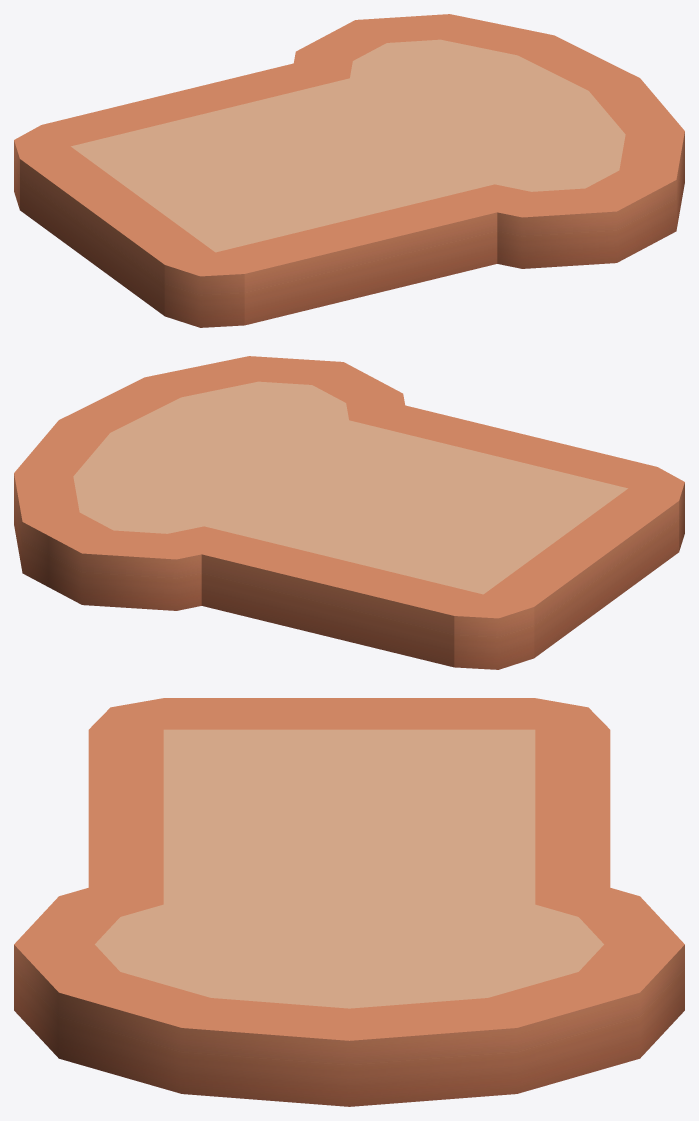
The model's file is bread.glb.
3 renders of one model, top to bottom at view 1: azimuth 30°, elevation 25°; view 2: azimuth 150°, elevation 25°; view 3: azimuth 270°, elevation 25°, orthographic. The views are drawn at different scales.
Parts seen in each view (by area): view 1: bread; view 2: bread; view 3: bread.
Part boxes in pixels (box(x1,y1,x2,y2)): bread: box(14, 14, 684, 327); bread: box(14, 356, 684, 669); bread: box(14, 698, 684, 1106).
Bounding box in the file's own units: 0.4423 × 0.0397 × 0.3659.
1 material, 1 textured.
